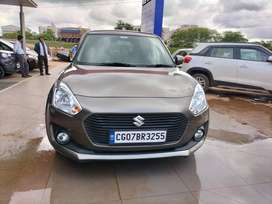CG07BR3255: (109, 130, 166, 142)
